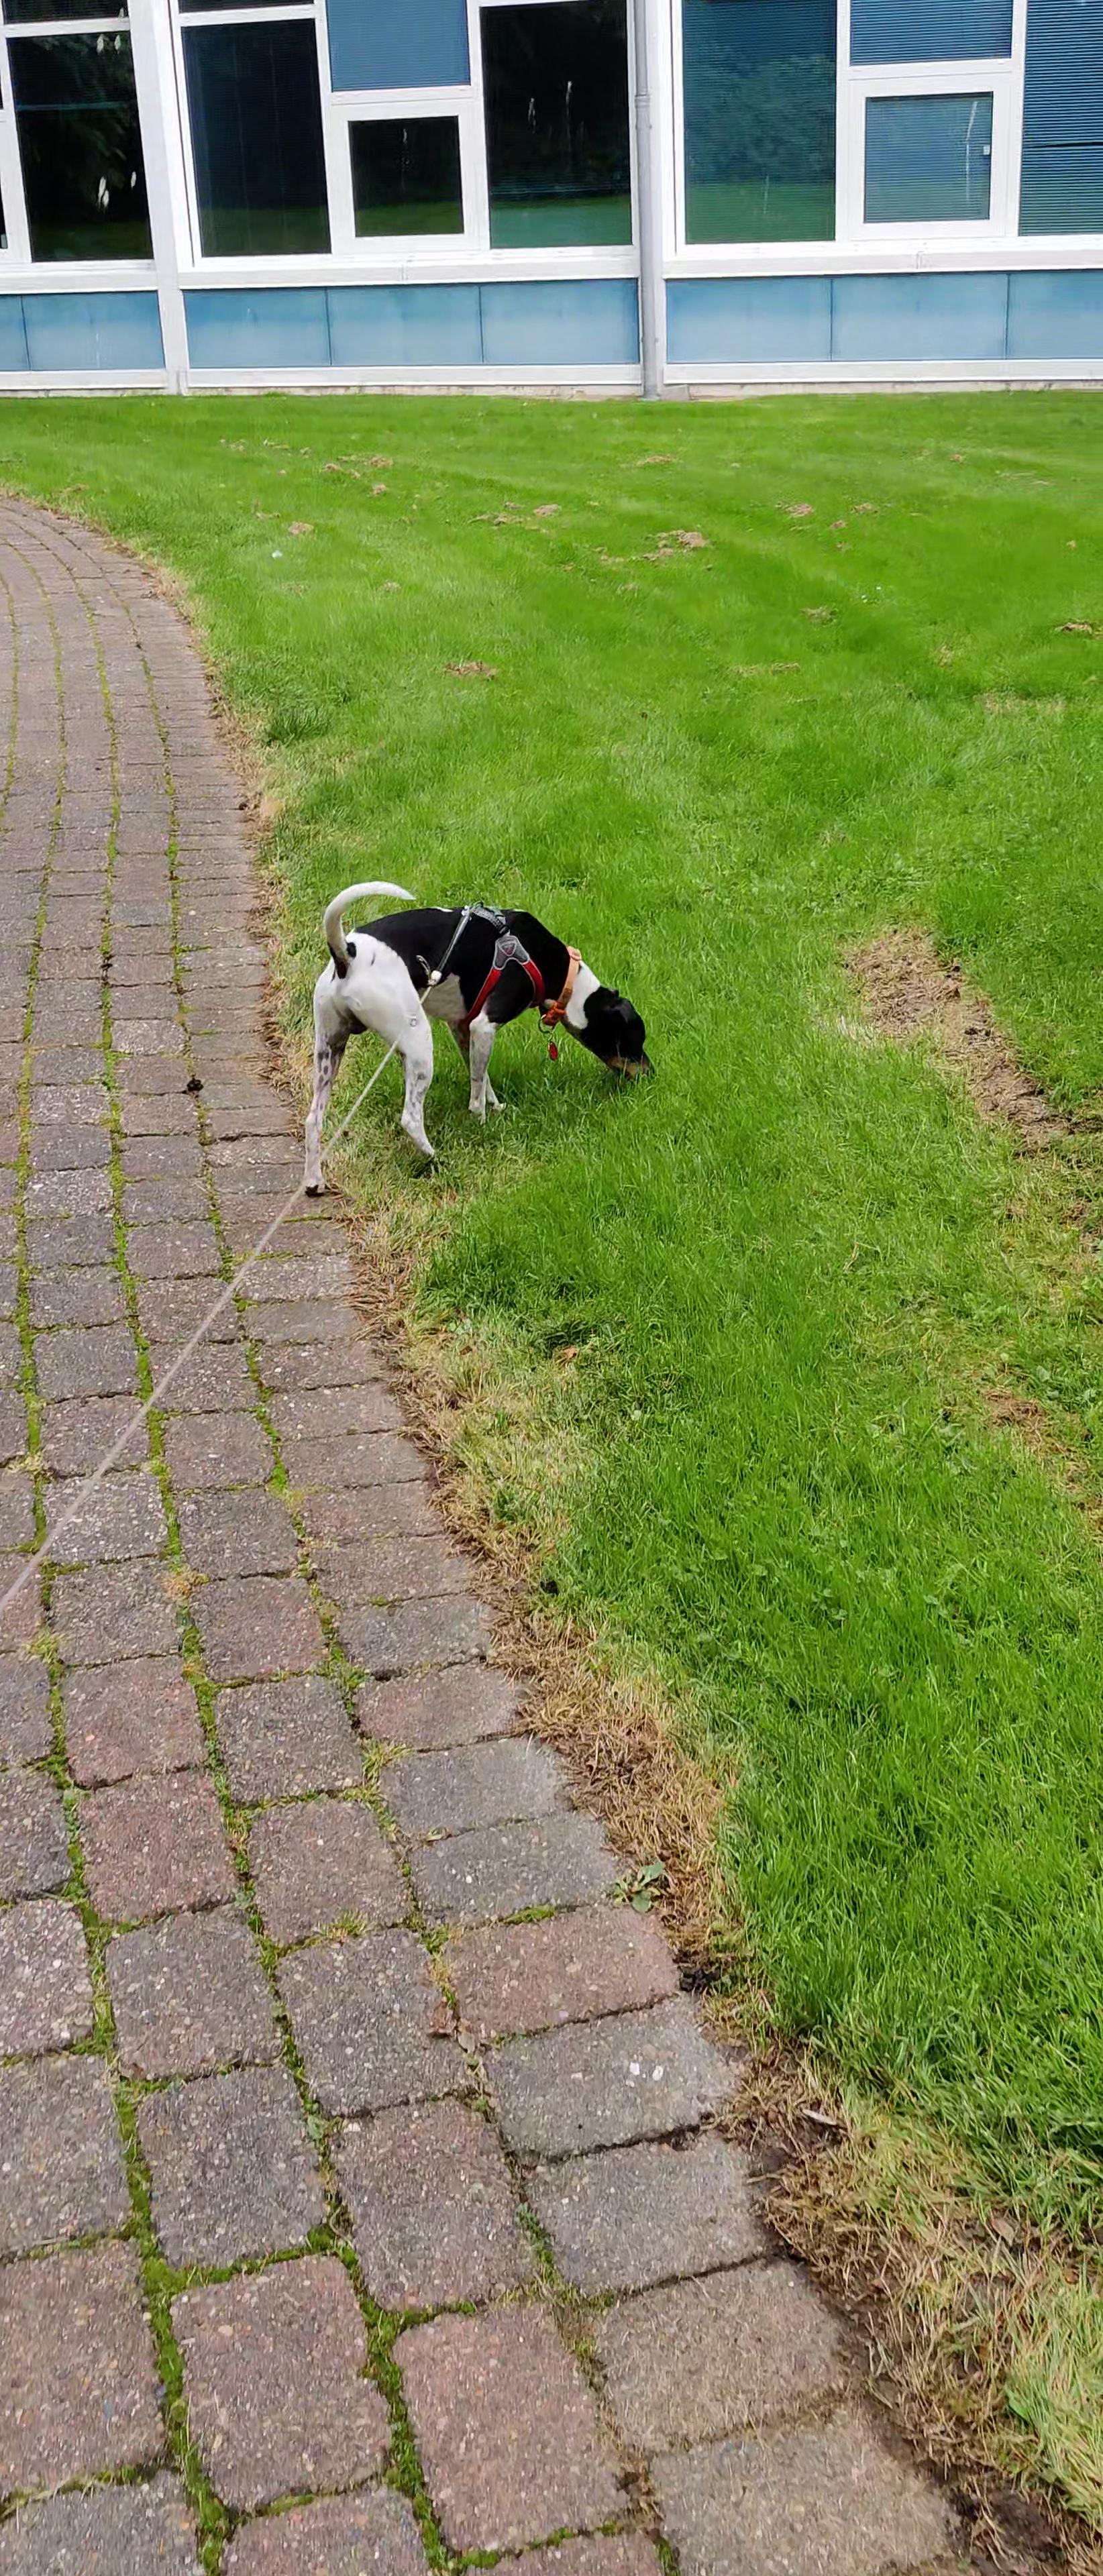Dog: (298, 876, 658, 1196)
